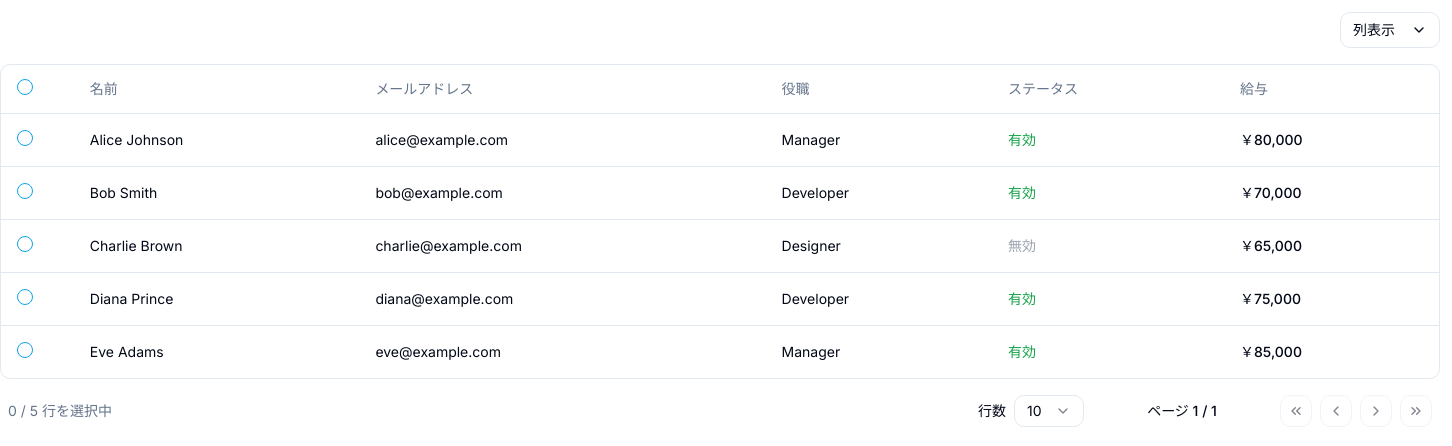
Scenario: DataTable › Row Selection › selection count display
This screenshot has width=1452, height=446.
expect the text "0 / 5 行を選択中" is shown: met, box [8,400,112,420]
// Select first row
Click the checkbox named "Select row" next to "Alice Johnson": [25, 138] box [17,130,33,146]
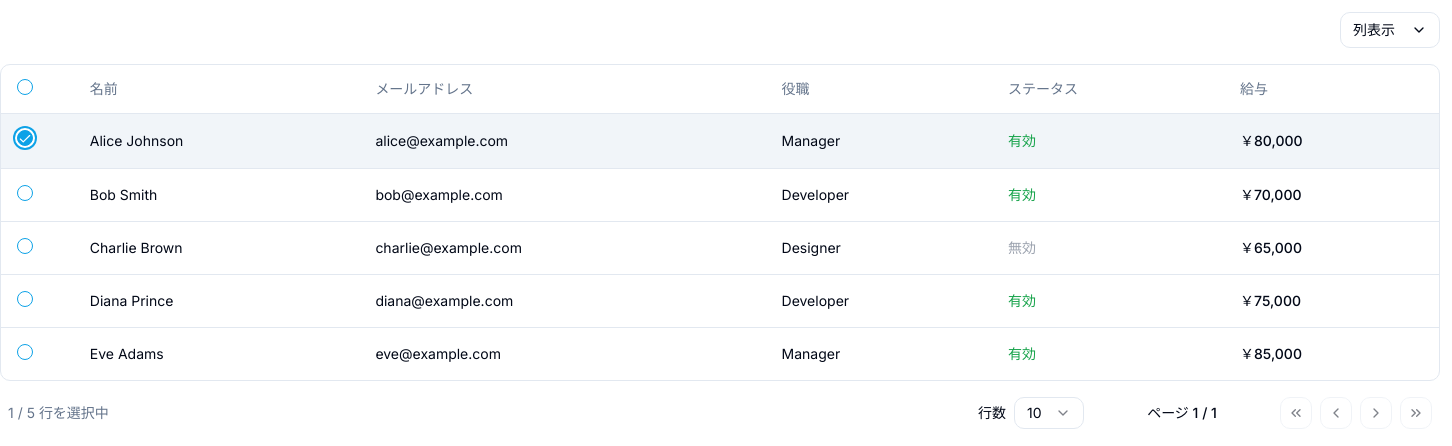
expect the text "1 / 5 行を選択中" is shown: met, box [8,402,109,422]
